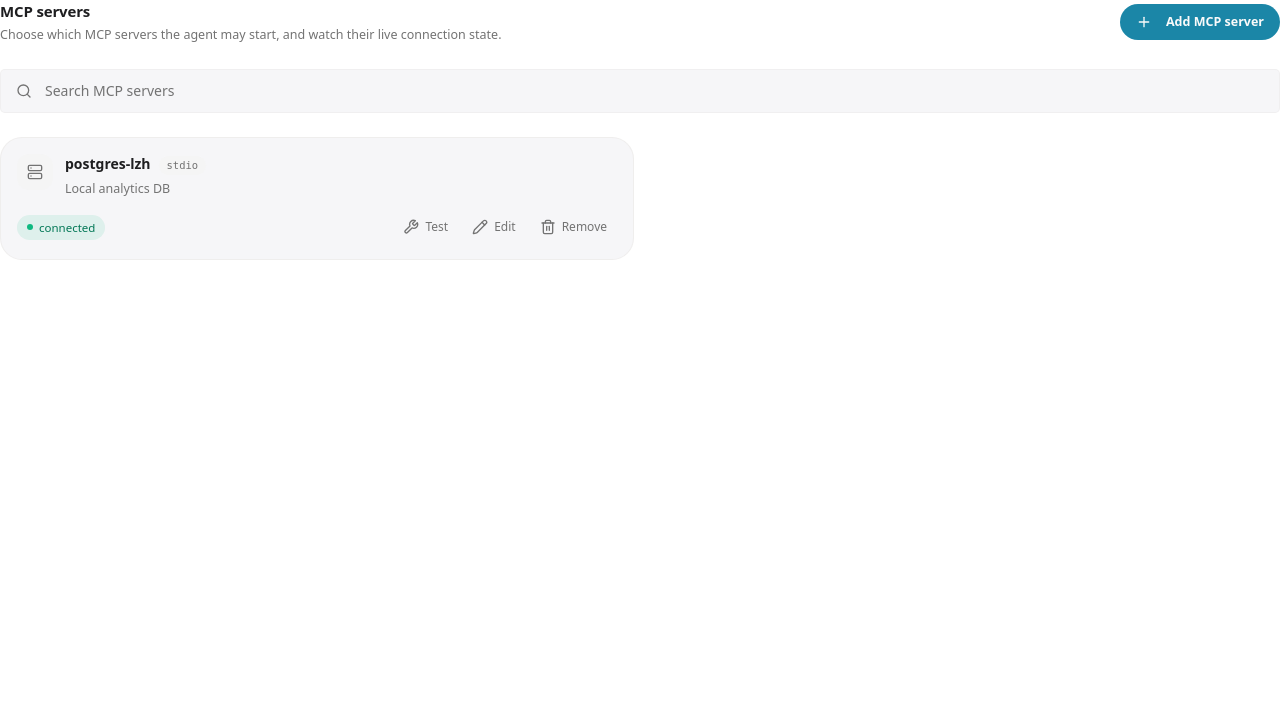
Test: MCP servers page › closes the modal from Cancel without saving
What coordinates should you click on to do the following:
click the button "Add MCP server"
I would click on:
 (1200, 22)
Its box is [1120,4,1279,40].
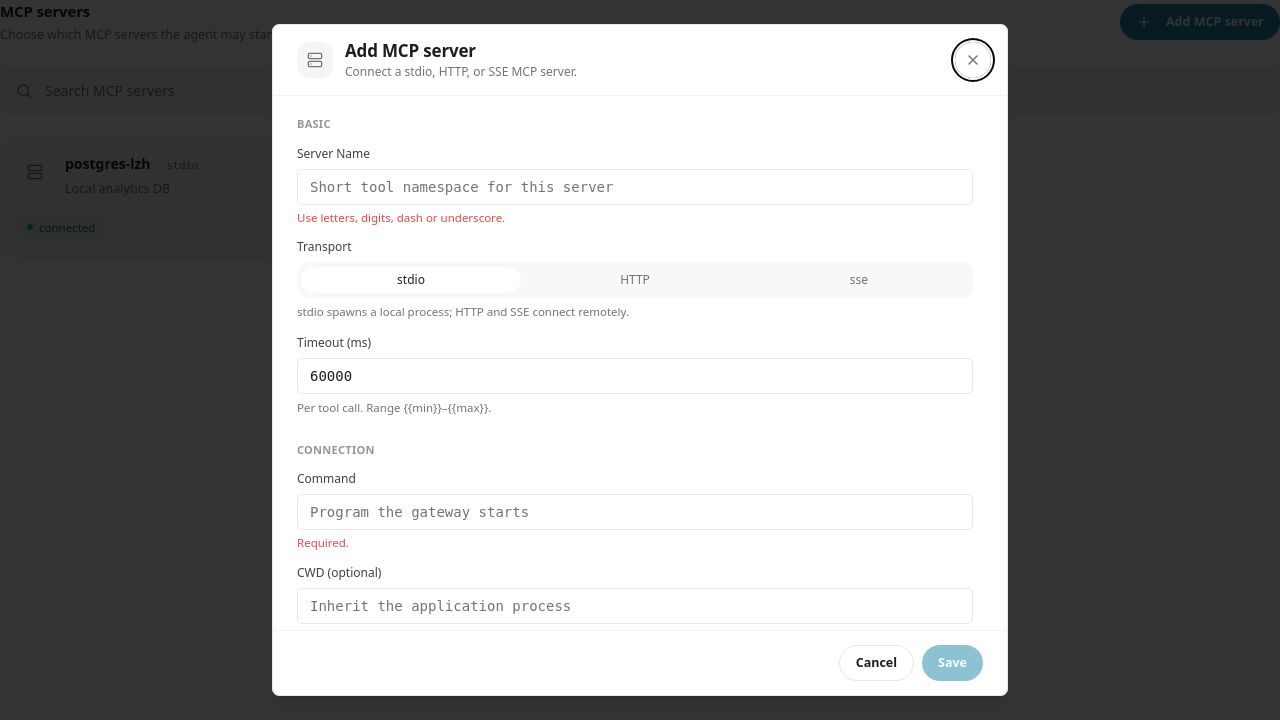
Check: the dialog is shown, box [272,24,1008,696]
What coordinates should you click on to do the following:
click the button "Cancel"
I would click on:
 (876, 663)
Its box is [839,645,914,681].
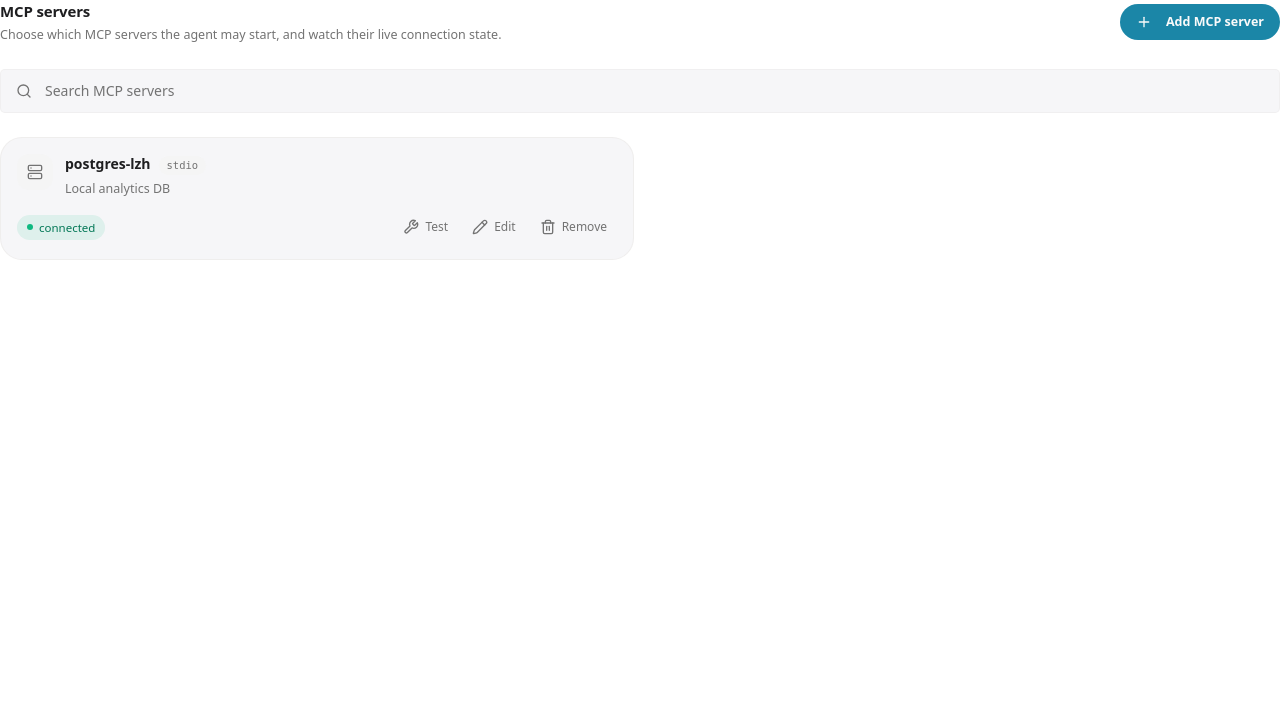
Check: the dialog is gone
